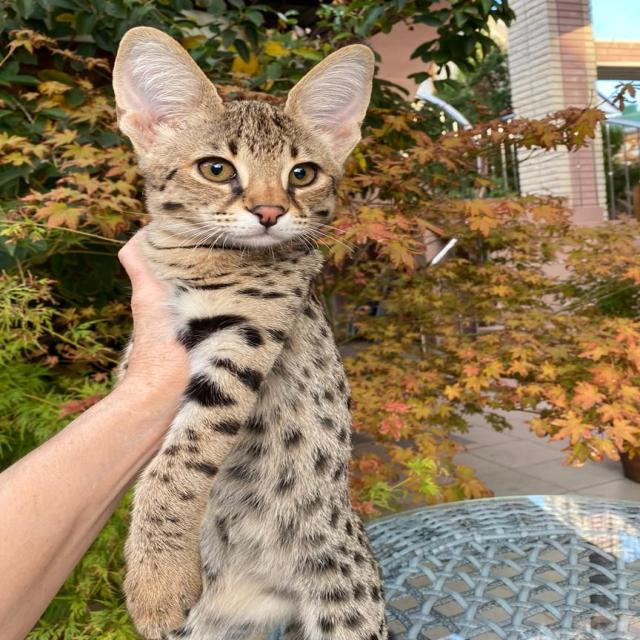Savannah: (105, 20, 408, 640)
